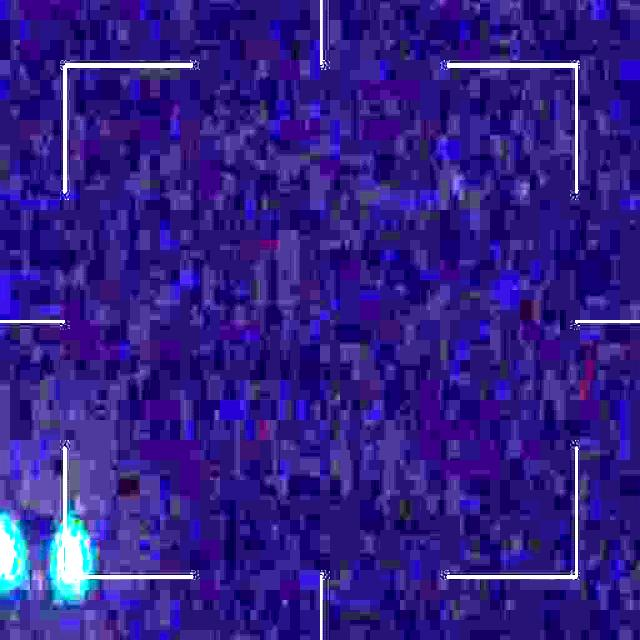bird: (0, 528, 82, 586)
